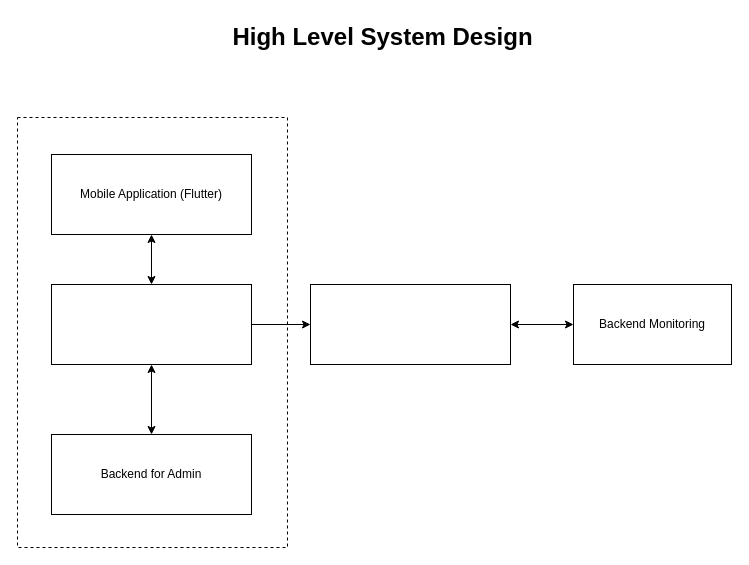
The diagram is 749 pixels wide and 565 high, and some of its shapes have lost their labels. The shapes that lost their labels are listed below. From the top down, each one's box as (x1, y1, x2, y2) in pixels, then its label:
(50, 284, 252, 364): BFF (Backend For Frontend) Application
(310, 284, 510, 364): Logging Application
